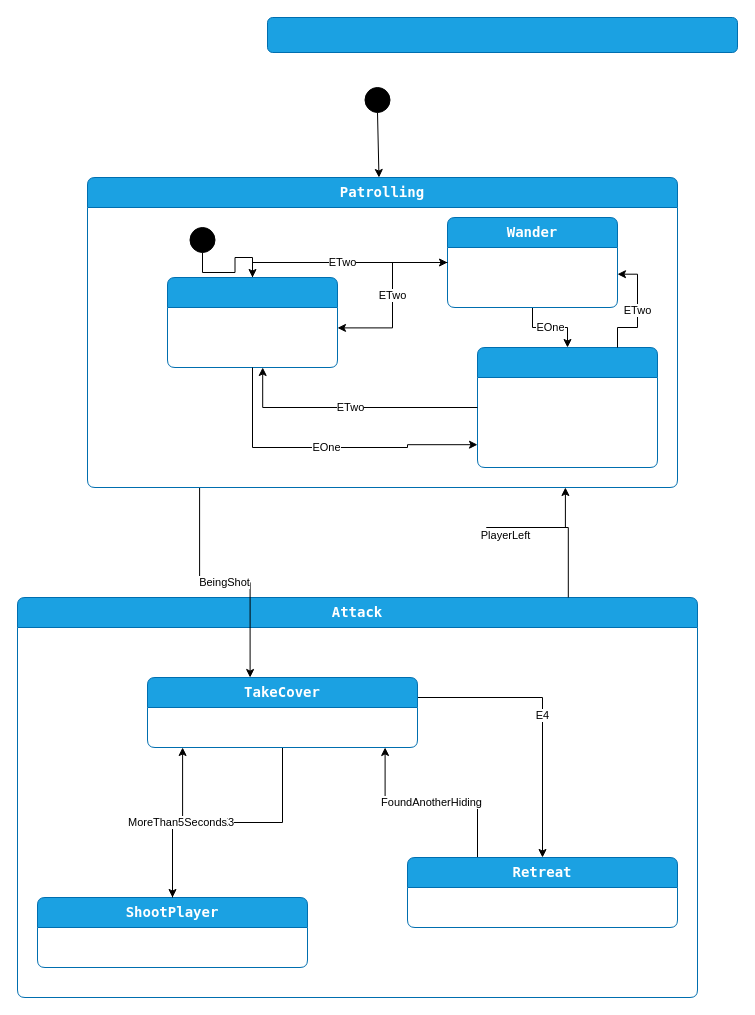
The diagram is 755 pixels wide and 1015 high, and some of its shapes have lost their labels. The centre of each missing label's shape, as x and y in pixels:
"$STATEMACHINE : NestedNPC" goes at [502,34].
"Patrol" goes at [567,407].
"PlayerIdle" goes at [252,322].
